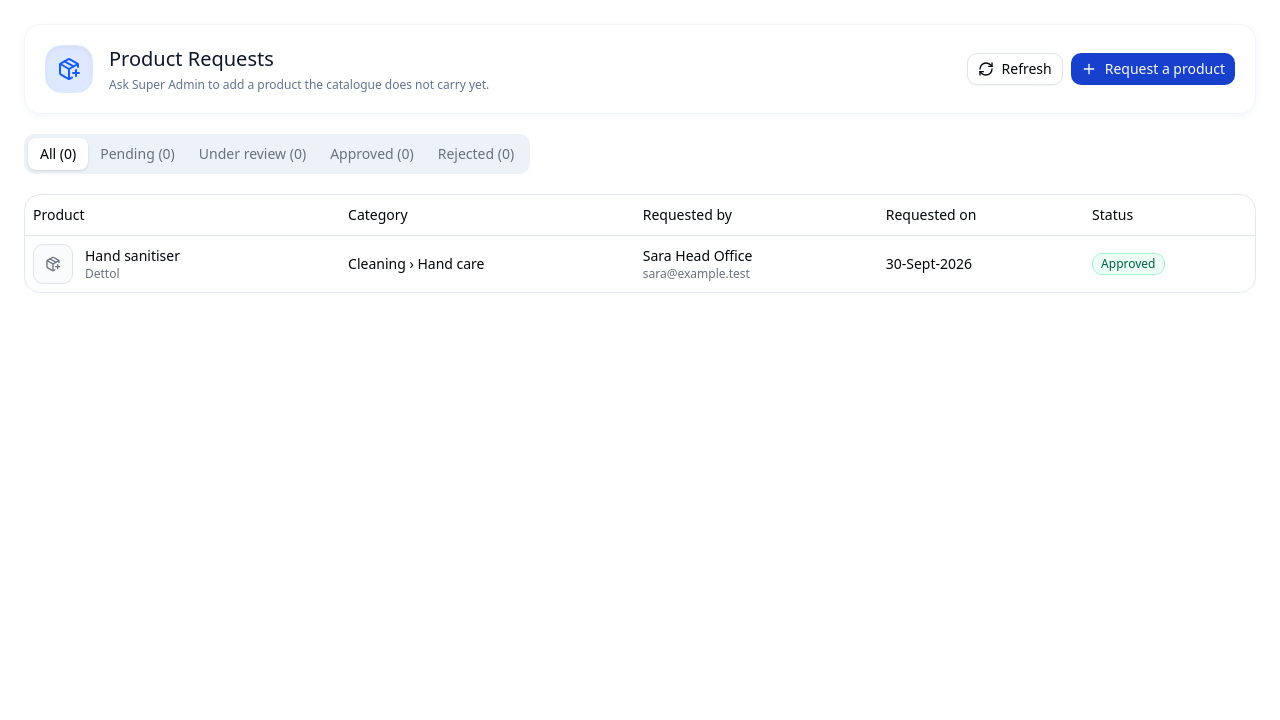
Test: ProductRequestsView for Head Office › says so when an approval made before dates existed has none
Click the row named "Open request for Hand sanitiser" at (640, 263), box 25,235 -> 1255,292
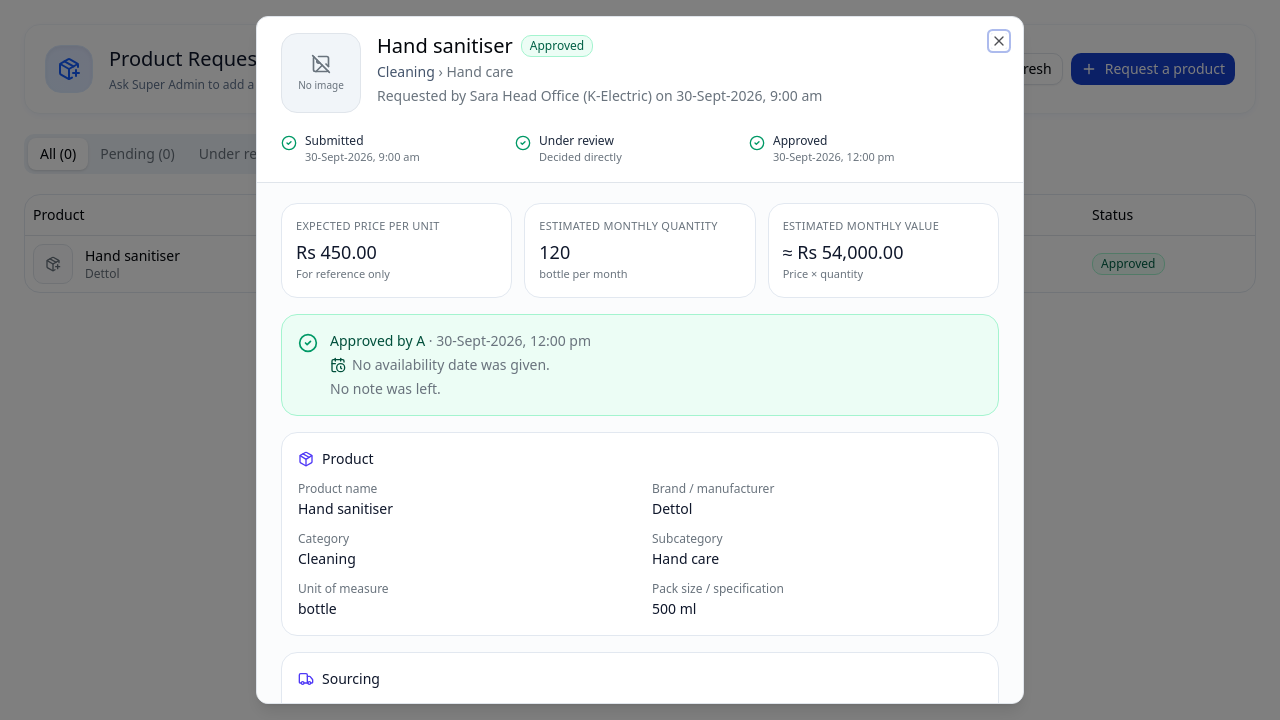
Check: the text "No availability date was given." is shown, box 352,354 -> 550,374
